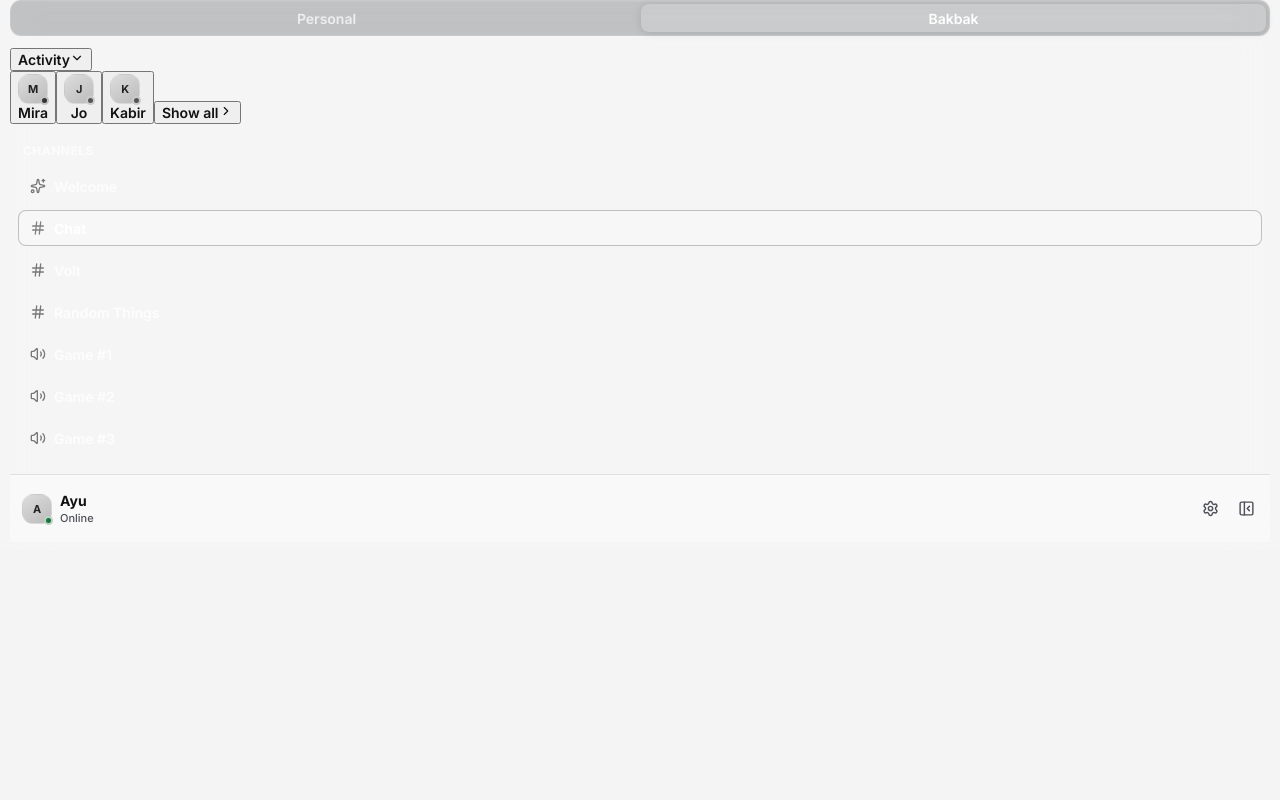
it: ChannelSidebar unified navigation › opens a focus-trapped grouped member overlay and restores Show all focus
This screenshot has width=1280, height=800.
Click the button "Show all" at [197, 112], box [154,101,240,124]
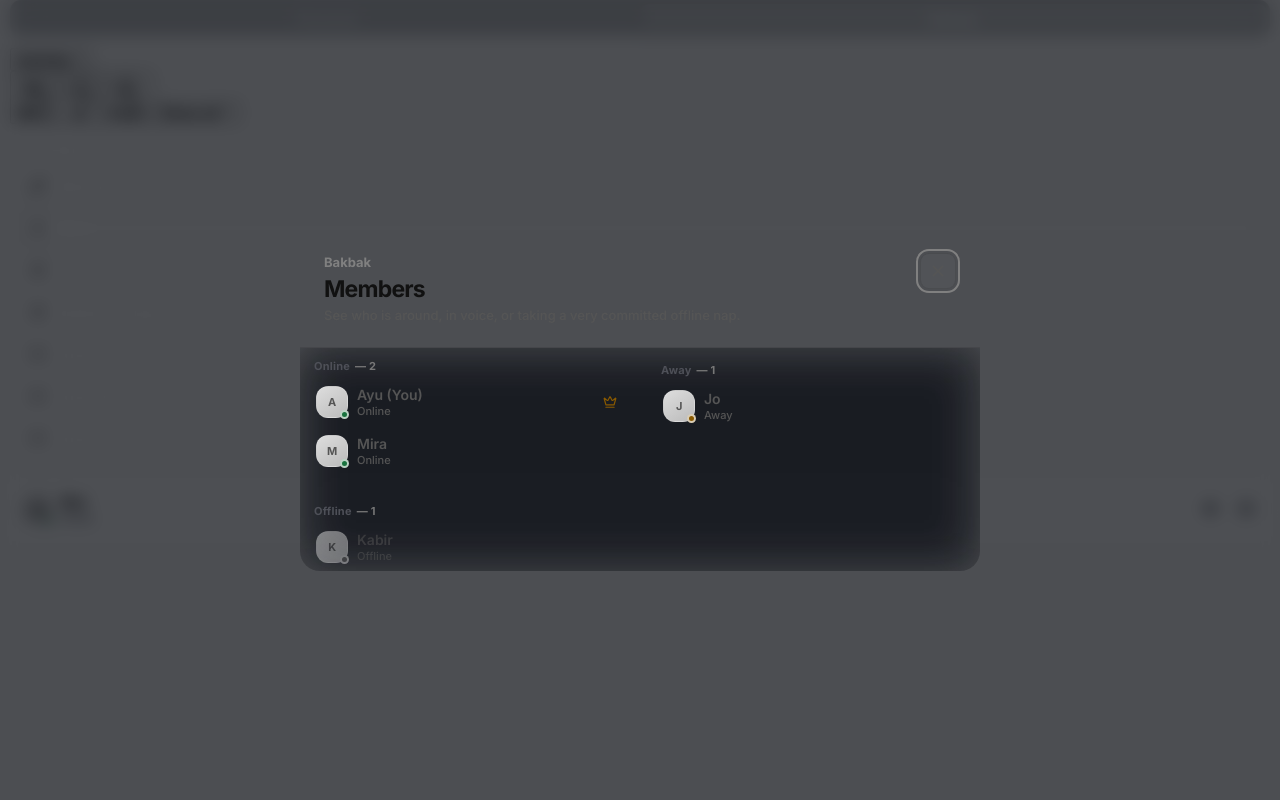
Expected: the dialog "Members" is shown, [300,229,980,571]
Expected: the heading "Online — 2" is shown, [314,359,376,373]
Expected: the heading "Away — 1" is shown, [661,363,716,377]
Press Escape
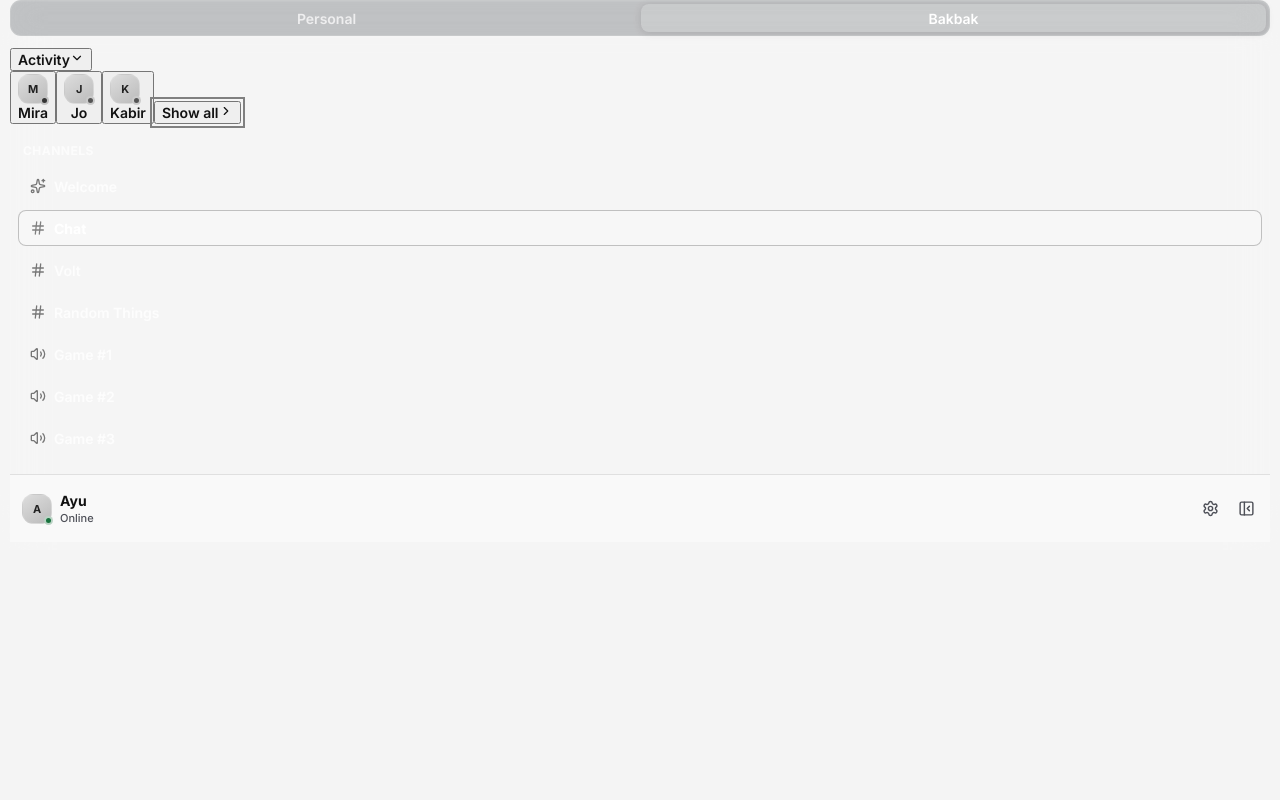
Expected: the heading "Members" is gone
